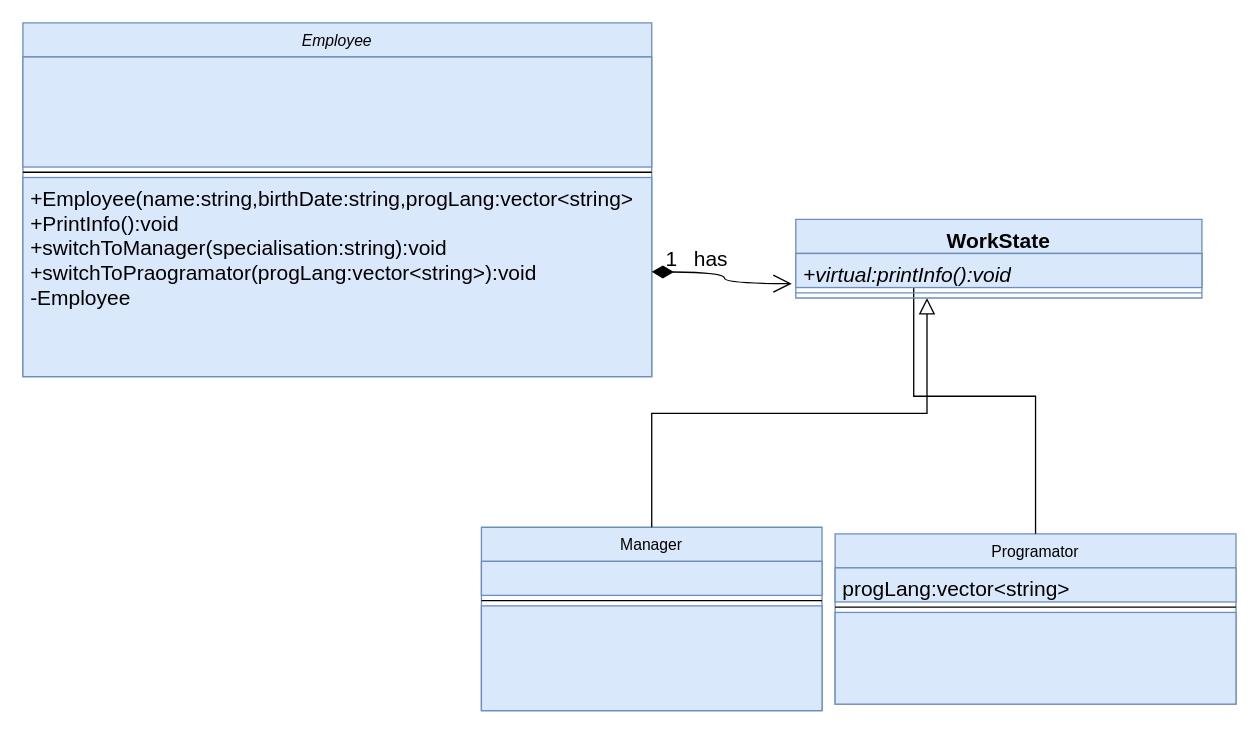
The diagram is 1259 pixels wide and 738 high, and some of its shapes have lost their labels. The centre of each missing label's shape, as x and y in pixels:
"+Manager(specialisation:string) +printInfo():void" goes at pixel 651 658.
"+Programator(progLang:vector<string>) +printInfo():void" goes at pixel 1035 657.
"-name:string -birthDate:string -workState:WorkState*" goes at pixel 337 111.
"specialisation:string" goes at pixel 651 577.
